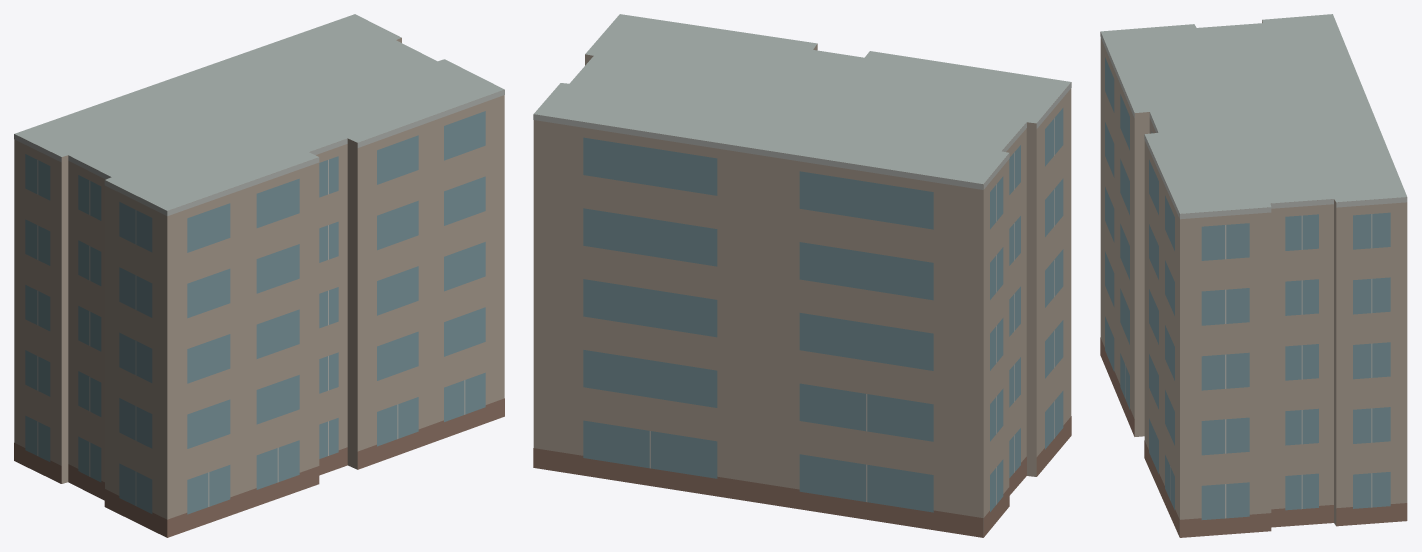
File: survey-upis-33031123.glb
3 views of the same model, side by side, from view 1: azimuth 30°, elevation 25°; view 2: azimuth 150°, elevation 25°; view 3: azimuth 270°, elevation 25° (orthographic). The views are drawn at different scales.
Parts seen in each view (by area): view 1: survey-upis-33031123.tmp; view 2: survey-upis-33031123.tmp; view 3: survey-upis-33031123.tmp.
Boxes of the visible parts, <box> form: survey-upis-33031123.tmp: <box>14,14,504,537</box>; survey-upis-33031123.tmp: <box>533,14,1071,537</box>; survey-upis-33031123.tmp: <box>1100,14,1407,537</box>.
Bounding box in the file's own units: 19.59 × 14.8 × 12.71.
